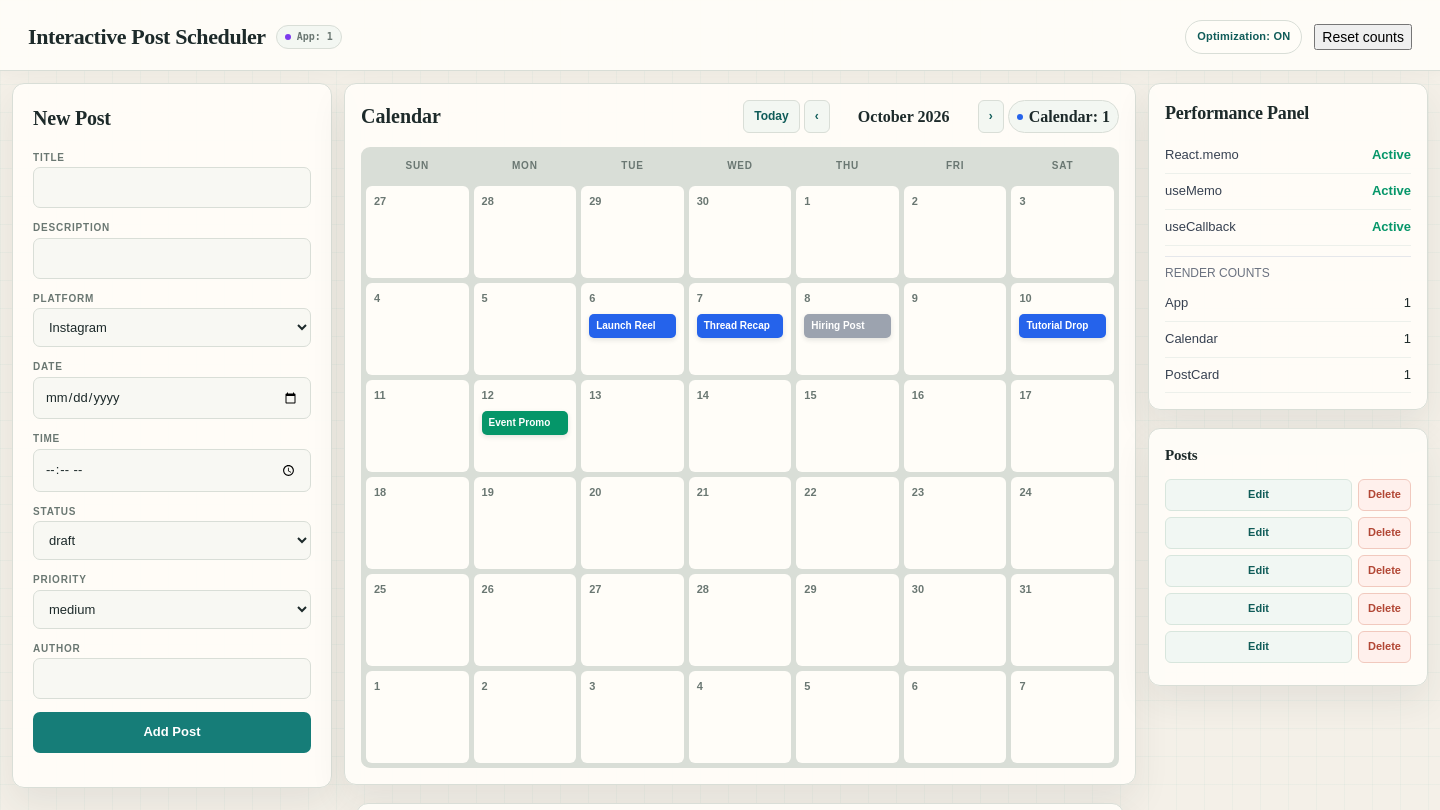
Test: Interactive Calendar › 9. Render counts can be reset
The image size is (1440, 810).
Click the button with test id "optimization-toggle" at (1244, 37), box [1185,20,1302,54]
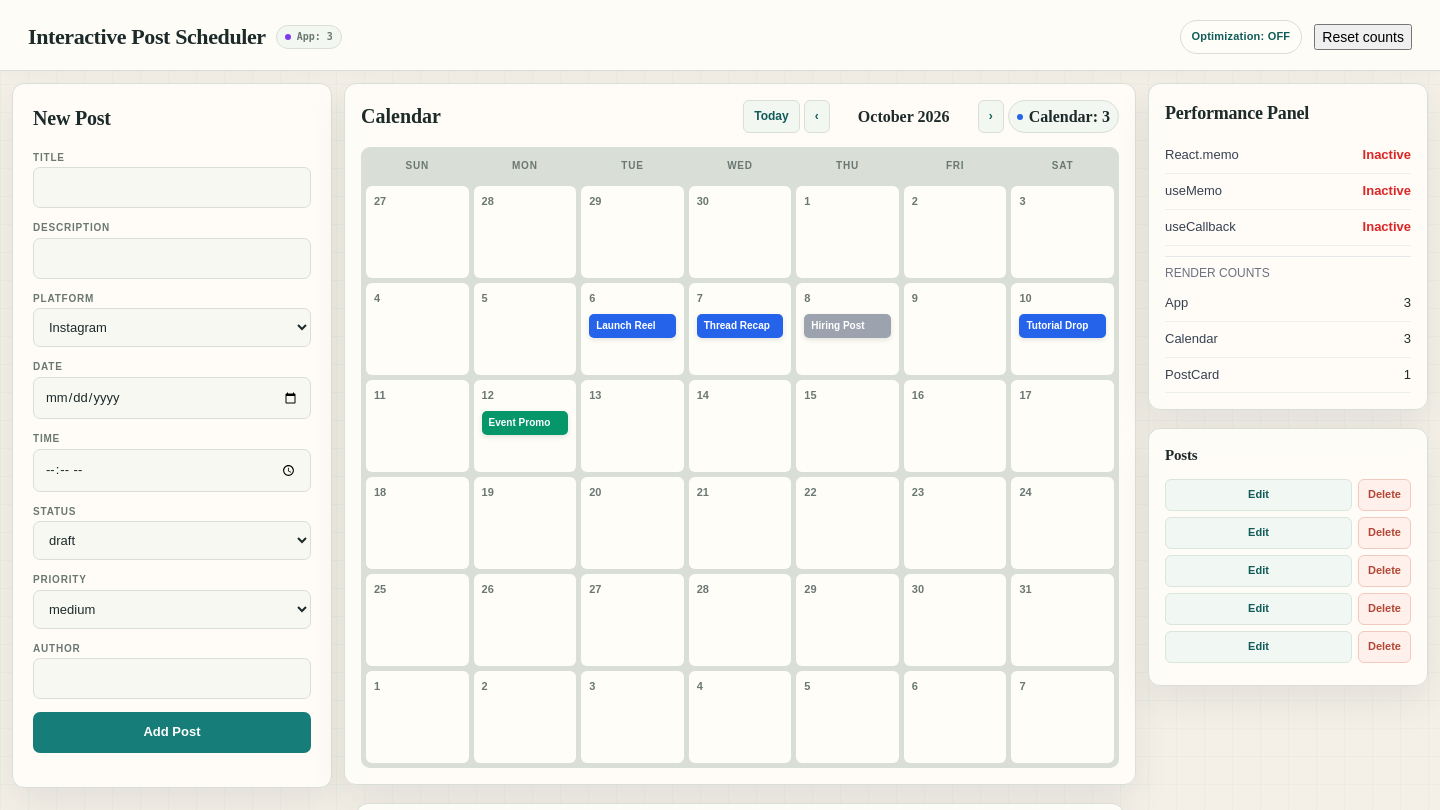
Click the button "Reset counts" at (1363, 37), box [1314,24,1412,50]
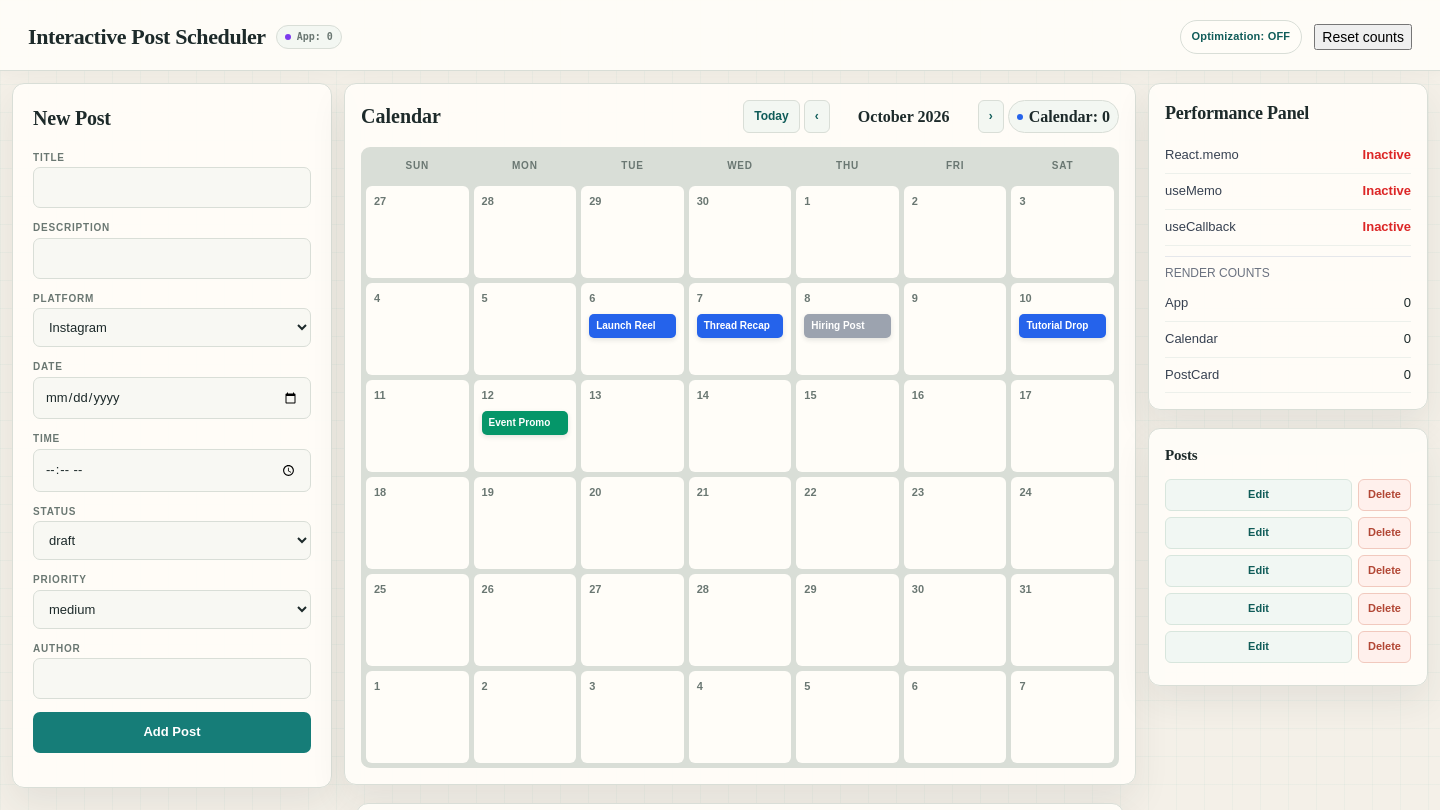
Expected: the text with test id "render-count-app" reads "0", [1404,295,1411,310]
Expected: the text with test id "render-count-calendar" reads "0", [1404,331,1411,346]
Expected: the text with test id "render-count-postcard" reads "0", [1404,367,1411,382]
